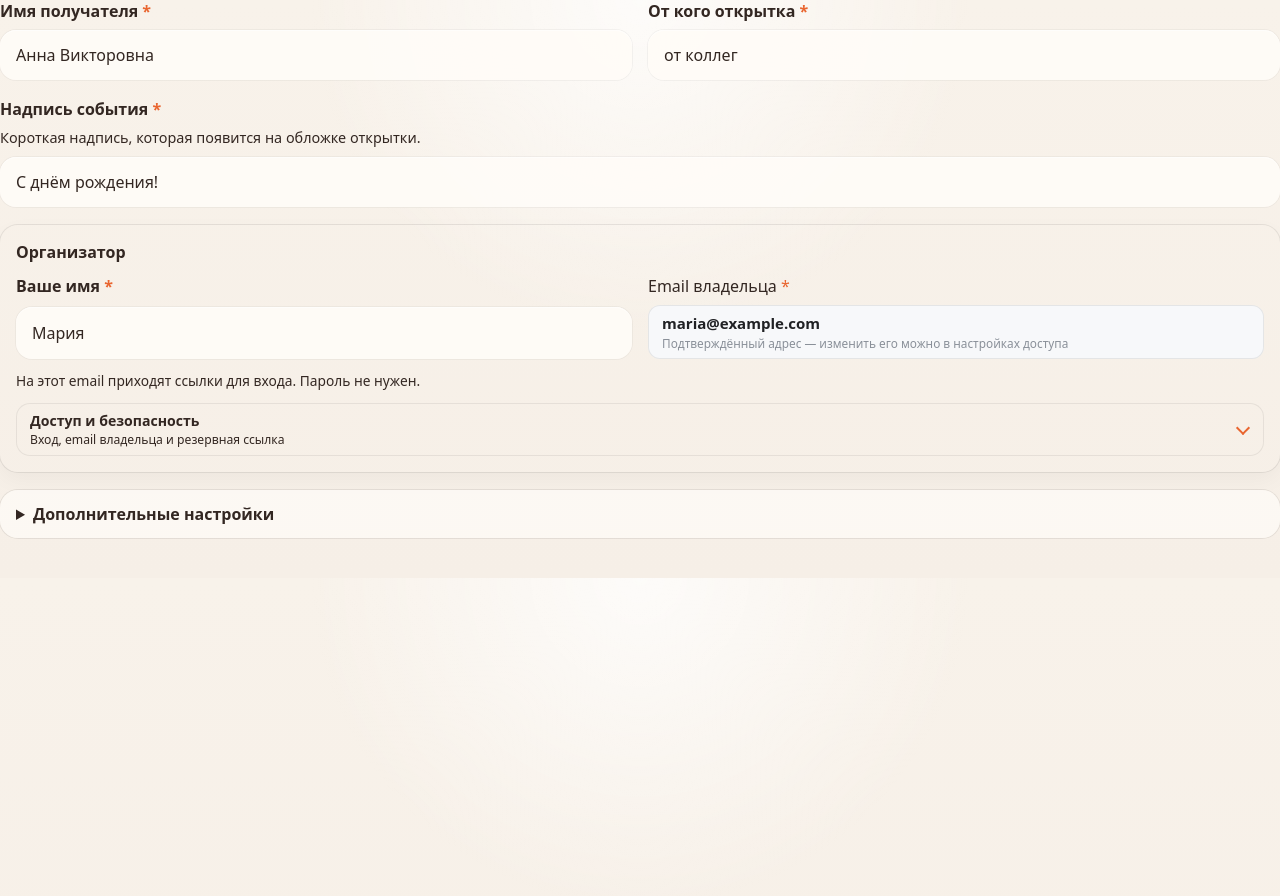
Test: BasicsSettingsForm mobile summary › renders and cancels a persisted pending email transfer
Step 1. Click the heading "Доступ и безопасность" → [157, 429], box [30,411,285,448]
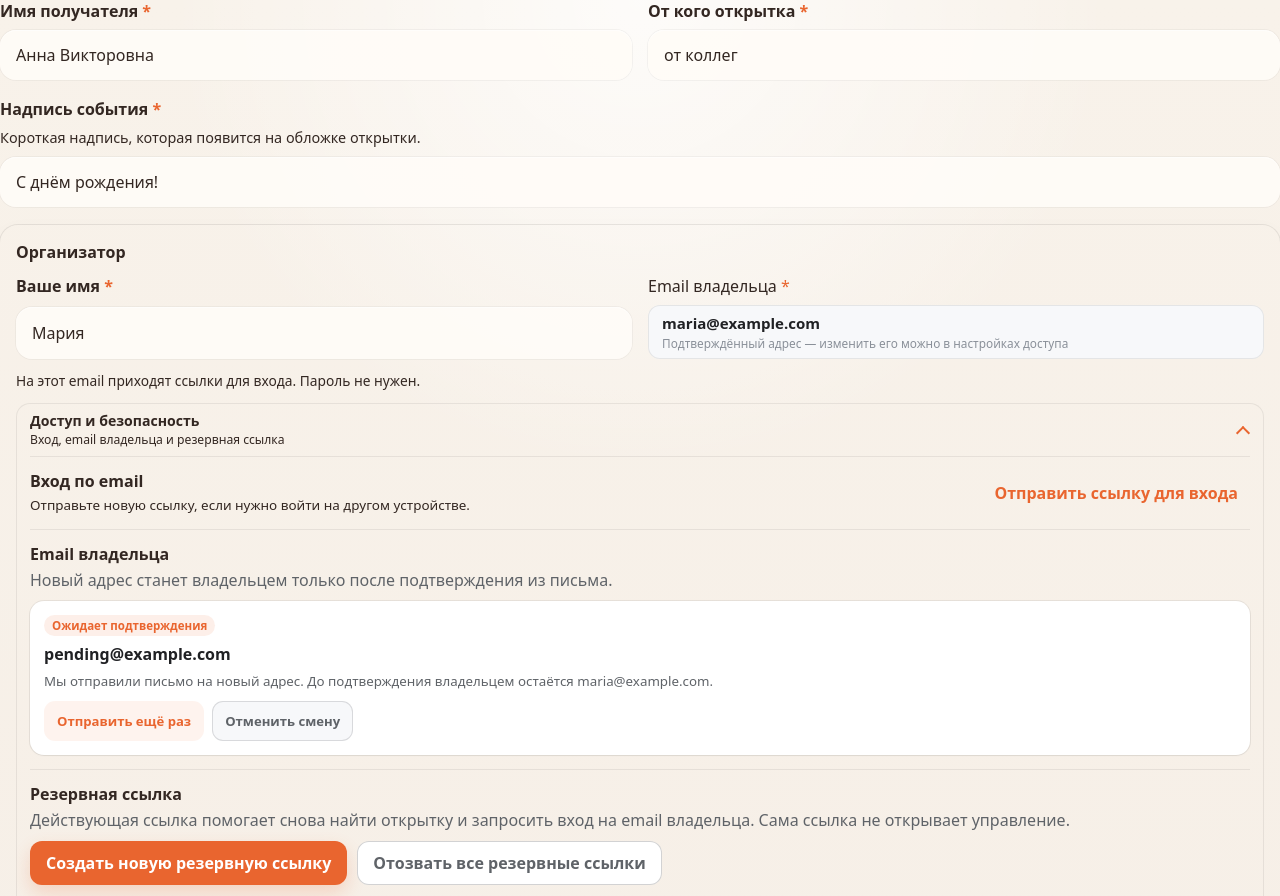
Check: the text "pending@example.com" is shown, box [44,643,231,665]
Step 2. Click the button "Отменить смену" → [283, 721], box [212,701,353,741]
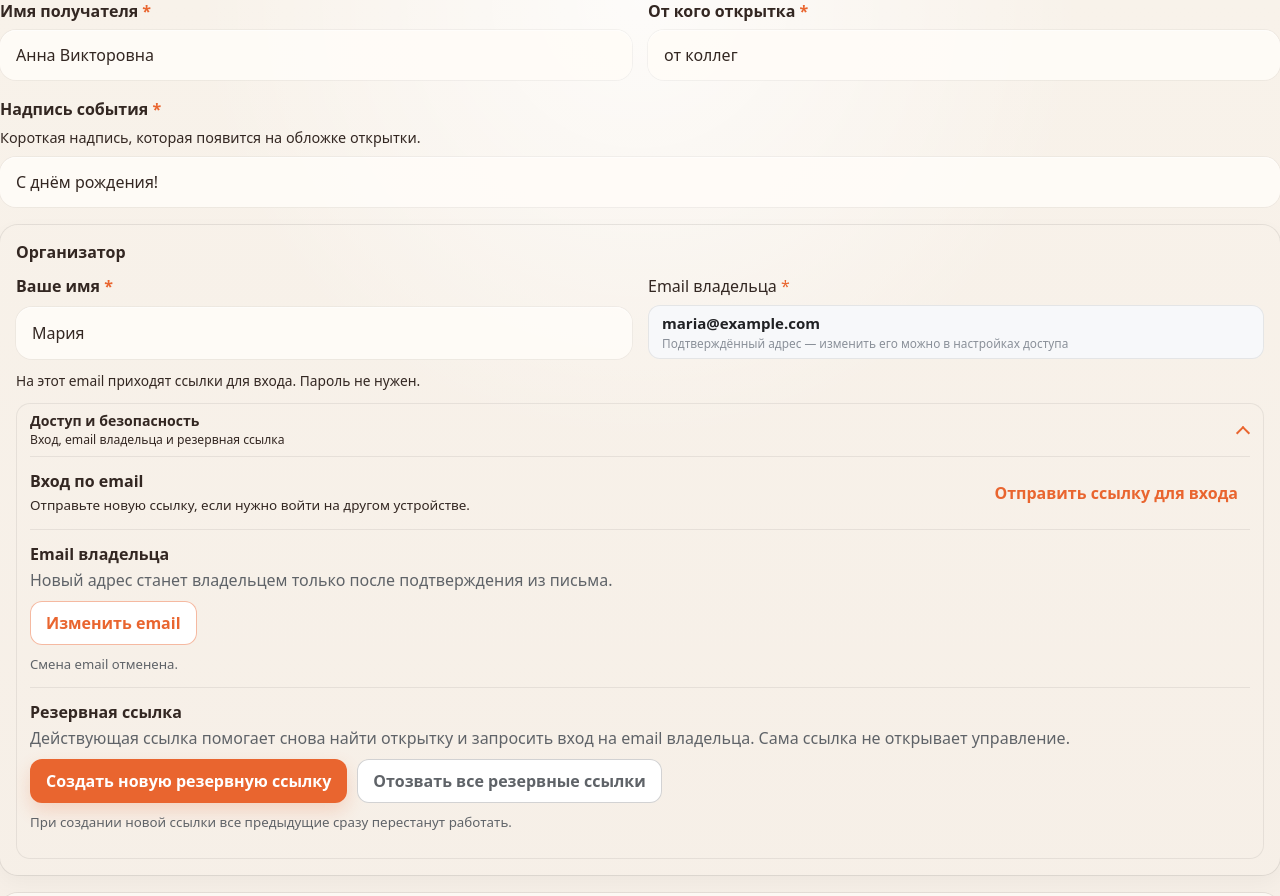
Check: the text "pending@example.com" is gone
Check: the button "Изменить email" is shown, box [30,601,196,645]
